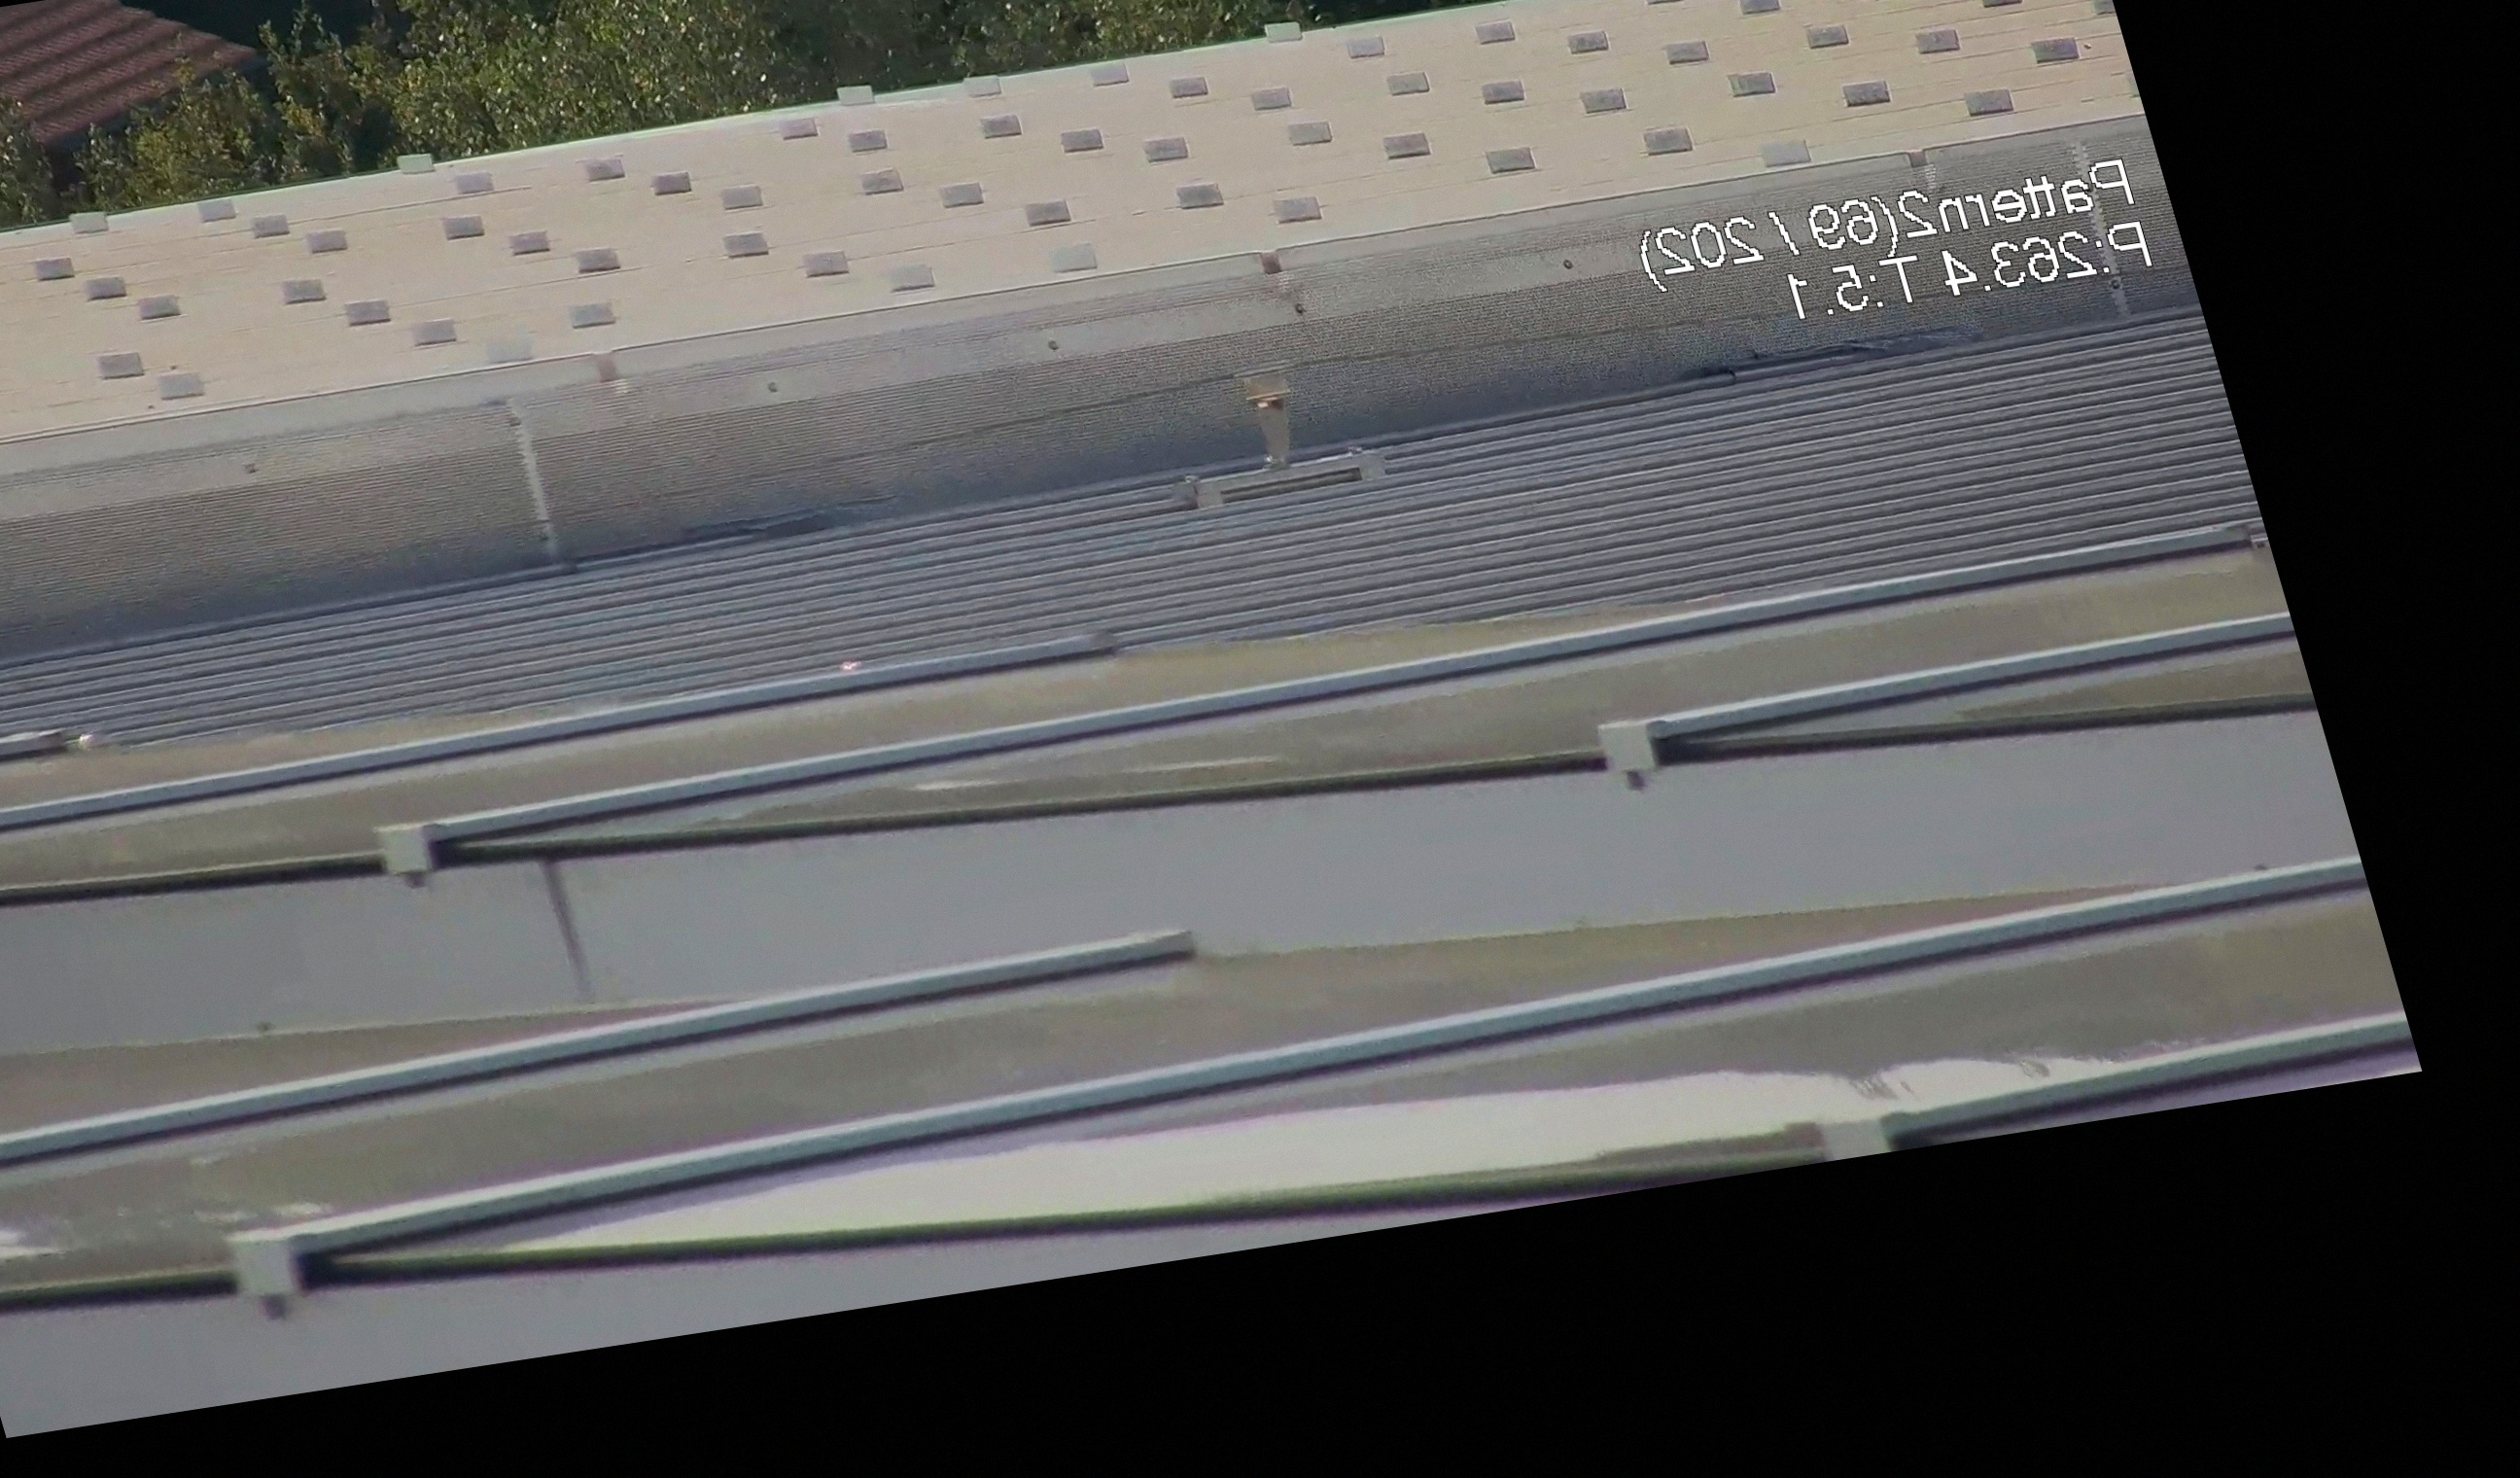Other: (1224, 362, 1336, 479)
